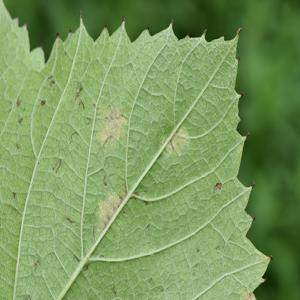Folha: (1, 2, 272, 298)
Fungo: (73, 83, 128, 150), (94, 105, 128, 148), (95, 188, 124, 228), (169, 130, 188, 156), (103, 105, 120, 126), (74, 84, 82, 100), (65, 216, 77, 226), (69, 130, 78, 143), (54, 158, 61, 174), (48, 74, 55, 88), (213, 182, 221, 194), (78, 98, 85, 109), (34, 260, 40, 270), (85, 116, 91, 125), (16, 96, 21, 106), (74, 90, 79, 100), (103, 175, 107, 186), (237, 26, 242, 34), (18, 116, 23, 124), (40, 99, 45, 106), (250, 181, 255, 188), (245, 131, 249, 139), (122, 14, 126, 22), (112, 286, 116, 294), (50, 79, 54, 87), (239, 92, 244, 98), (15, 142, 20, 148), (12, 191, 16, 198), (236, 56, 240, 62)
